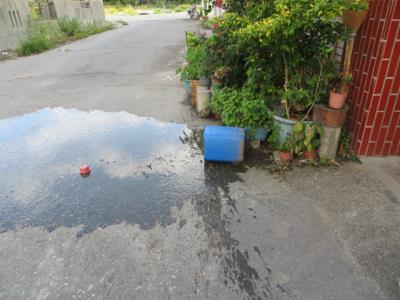bucket: (201, 124, 247, 164)
